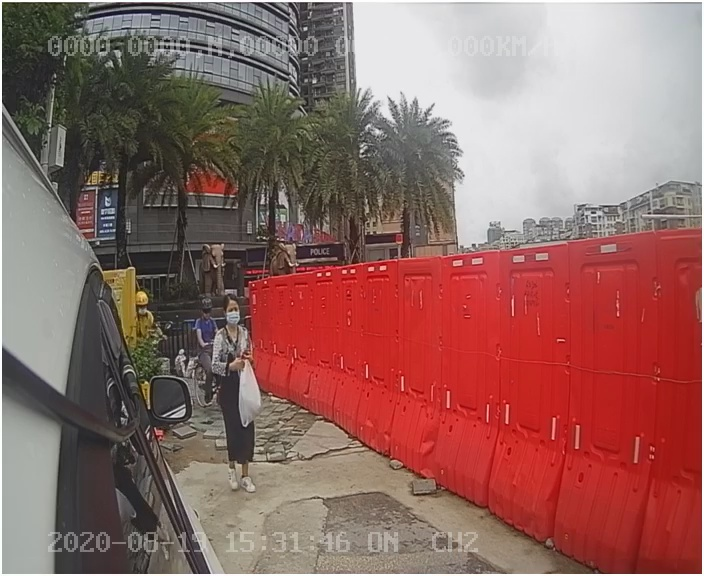person: (202, 293, 273, 499)
